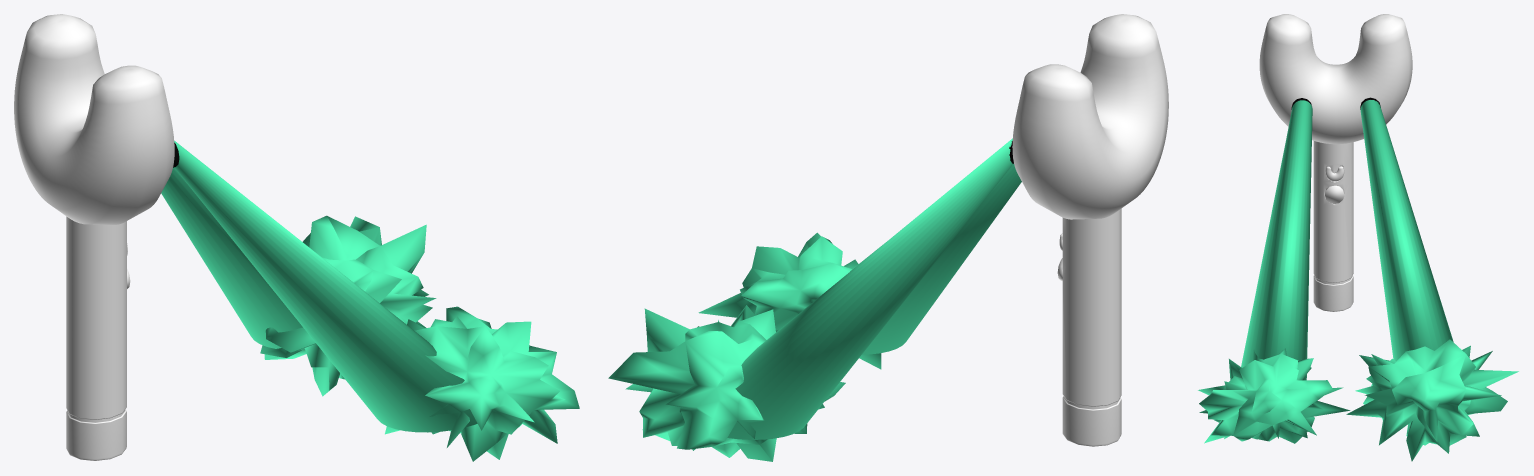
File: bunnybong.fbx
3 renders of one model, left to right at view 1: azimuth 30°, elevation 25°; view 2: azimuth 150°, elevation 25°; view 3: azimuth 270°, elevation 25°, orthographic. The views are drawn at different scales.
Visible parts, largest first — view 1: NurbsPath, Cylinder.004, Cylinder, Icosphere, Icosphere.001, Cylinder.005; view 2: NurbsPath, Cylinder.005, Icosphere.001, Cylinder, Icosphere, Cylinder.004; view 3: NurbsPath, Icosphere.001, Cylinder.004, Cylinder.005, Icosphere, Cylinder.
Boxes of the visible parts, left/top/right/bottom form: NurbsPath: left=14, top=14, right=174, bottom=224; Cylinder.004: left=174, top=141, right=477, bottom=432; Cylinder: left=66, top=216, right=126, bottom=460; Icosphere: left=385, top=306, right=579, bottom=461; Icosphere.001: left=260, top=215, right=436, bottom=396; Cylinder.005: left=161, top=167, right=304, bottom=350; NurbsPath: left=1012, top=14, right=1168, bottom=219; Cylinder.005: left=727, top=138, right=1012, bottom=439; Icosphere.001: left=608, top=305, right=845, bottom=461; Cylinder: left=1062, top=208, right=1121, bottom=446; Icosphere: left=698, top=232, right=881, bottom=369; Cylinder.004: left=850, top=164, right=1021, bottom=354; NurbsPath: left=1259, top=14, right=1412, bottom=144; Icosphere.001: left=1346, top=339, right=1518, bottom=461; Cylinder.004: left=1241, top=100, right=1312, bottom=380; Cylinder.005: left=1360, top=100, right=1453, bottom=361; Icosphere: left=1198, top=348, right=1350, bottom=443; Cylinder: left=1313, top=141, right=1353, bottom=311.
Size of the model in its own units: 1749 by 1622 by 1468.
